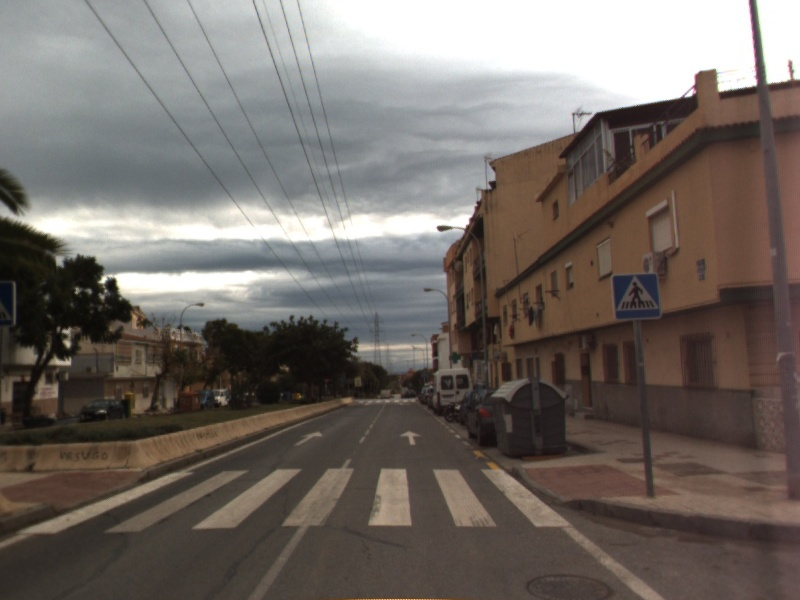STRAIGHT: (292, 429, 325, 448), (398, 429, 424, 447)
